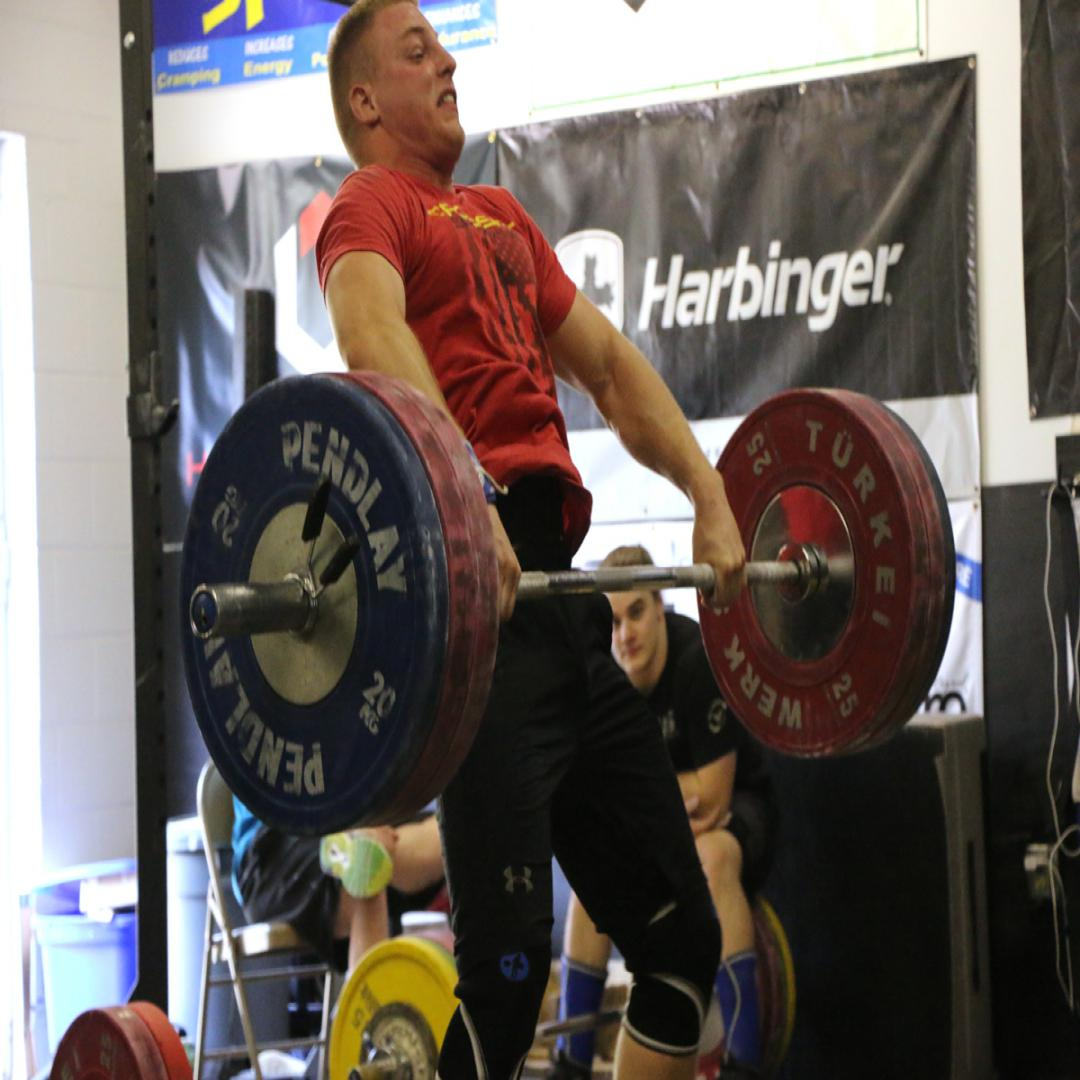Bar: (188, 580, 222, 640)
Barbell: (183, 378, 426, 833)
